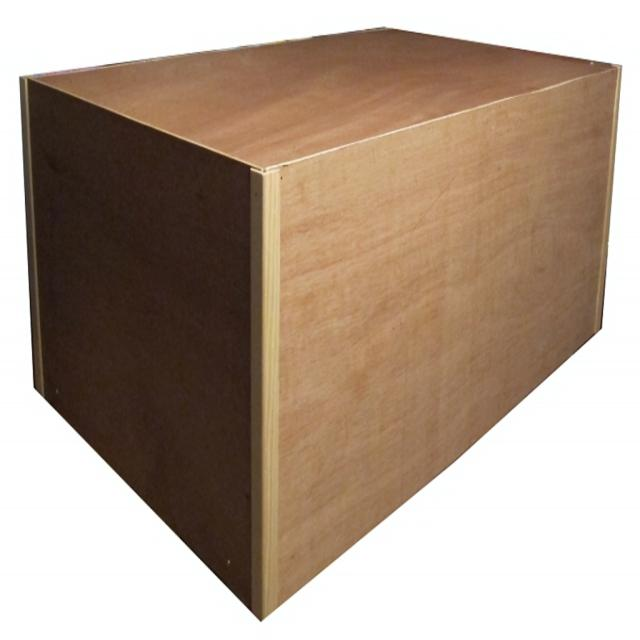Box: (22, 46, 590, 586)
